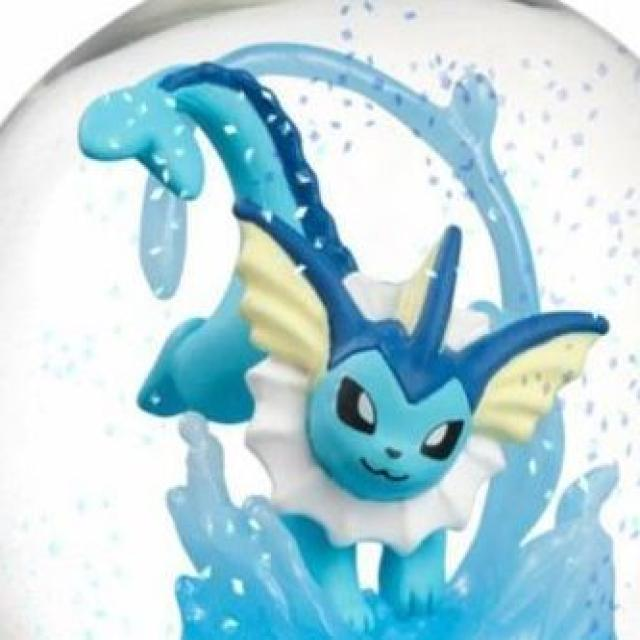Vaporeon: (203, 185, 570, 620)
